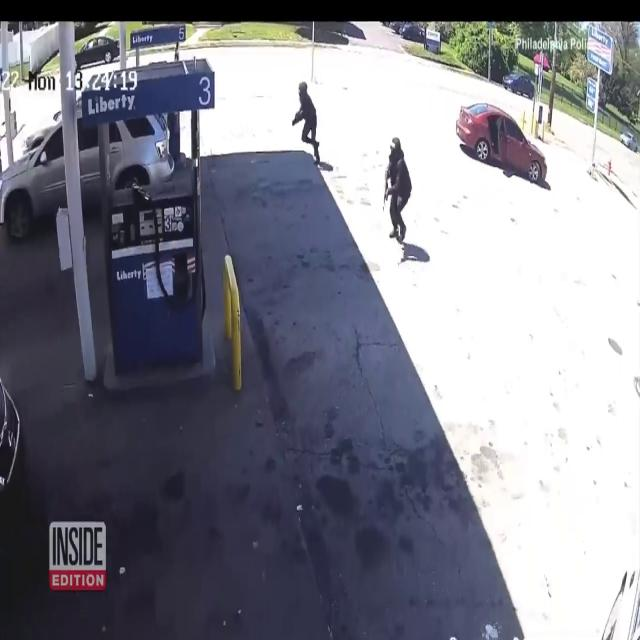penembakan: (381, 135, 414, 245), (290, 79, 324, 174)
